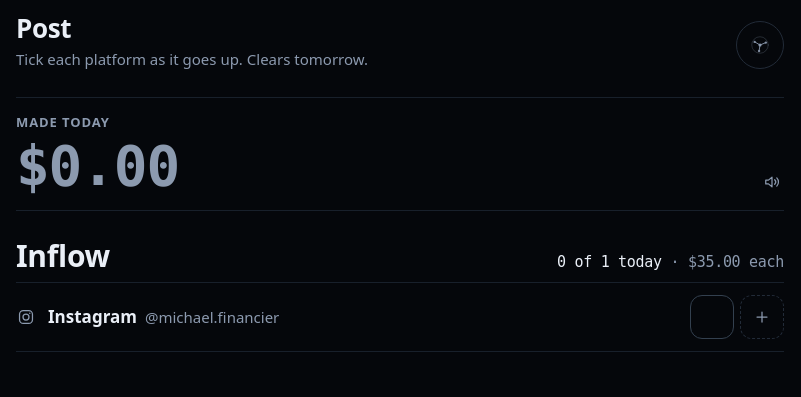
Scenario: the posting grid › allows an extra post beyond what is owed
This screenshot has width=801, height=397.
The day's one post first, so the next tap really is an extra one.
Click the button named "Instagram post 1 of 1": (712, 316) [690,294,734,338]
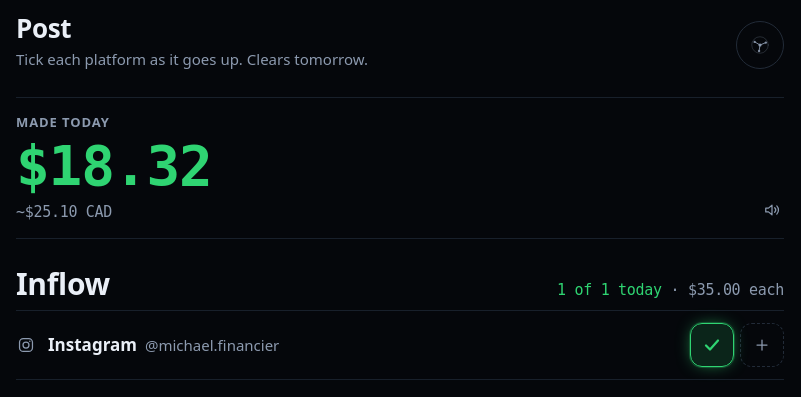
Result: the button named "Instagram post 1 of 1" is pressed at [690,323,734,367]
Click the button named "Instagram extra post": (762, 345) [740,323,784,367]
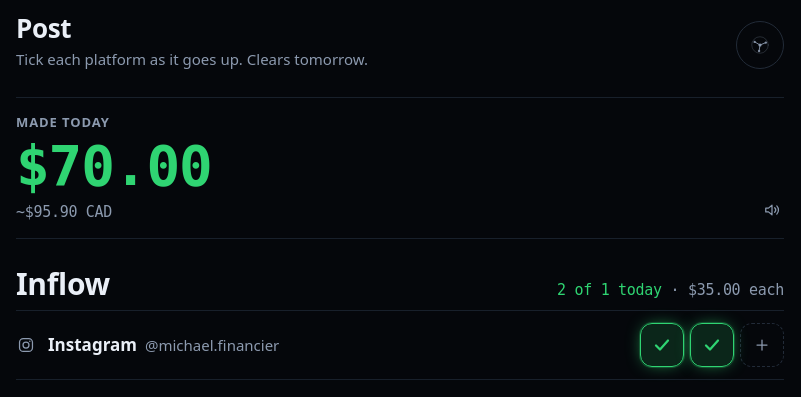
Result: the text "2 of 1 today" is shown at [557,281,662,299]
